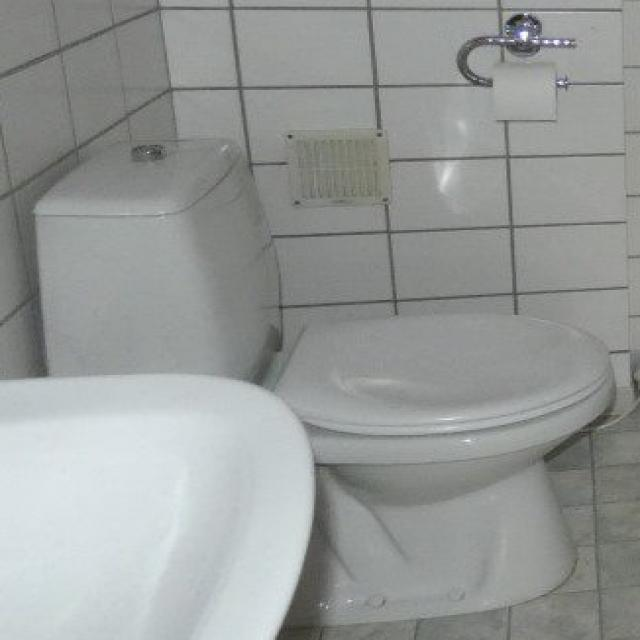toilet: (32, 134, 619, 626)
wastafel: (0, 371, 317, 640)
